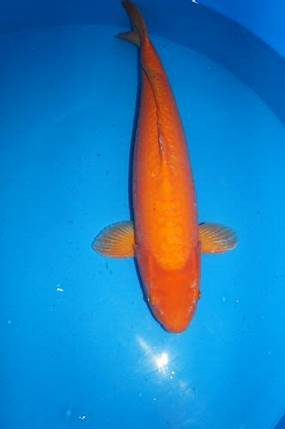red: (90, 1, 237, 334)
